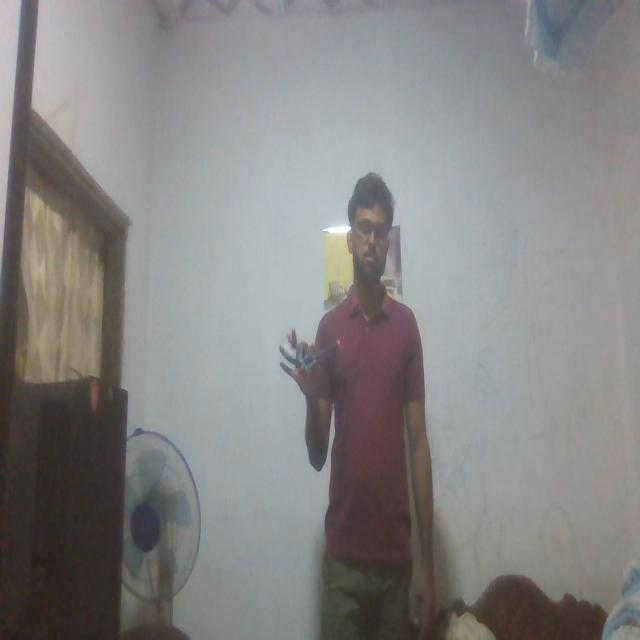Gun_Holder: (282, 321, 336, 375)
Person: (294, 166, 436, 640)
